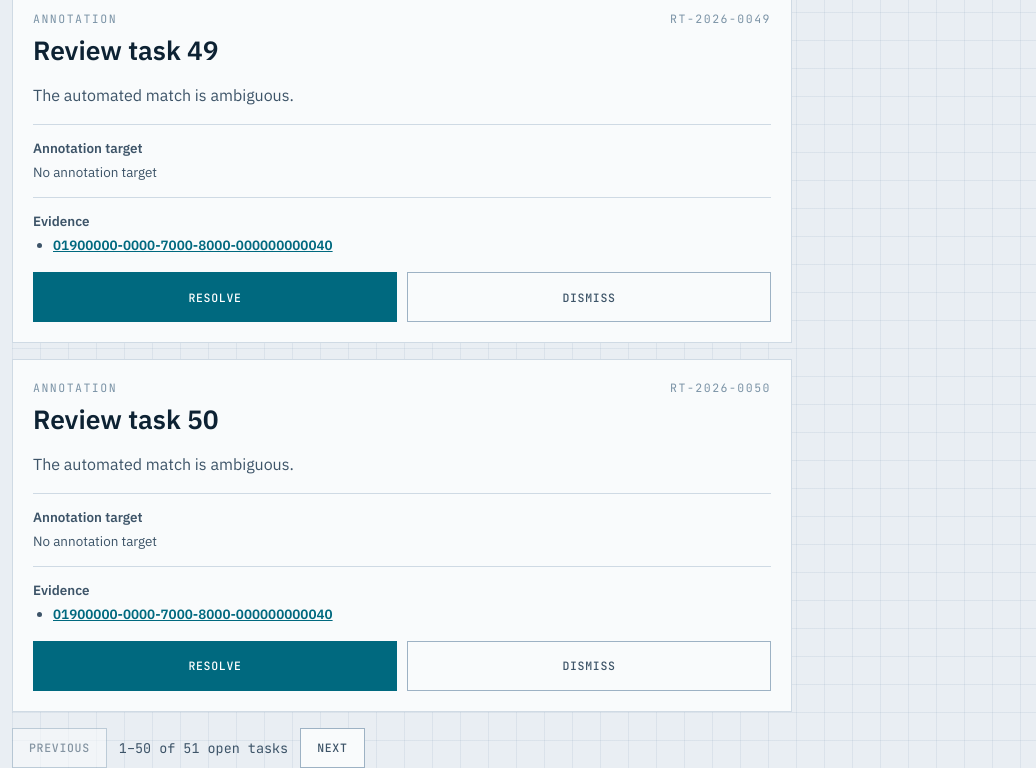
Test: ReviewQueuePage › pages through open tasks with Prev/Next controls
(page scrolled)
expect the text "1–50 of 51 open tasks" is shown: met, box left=119, top=739, right=288, bottom=757
Click the button "Next" at (332, 748), box left=300, top=728, right=364, bottom=767
(page scrolled)
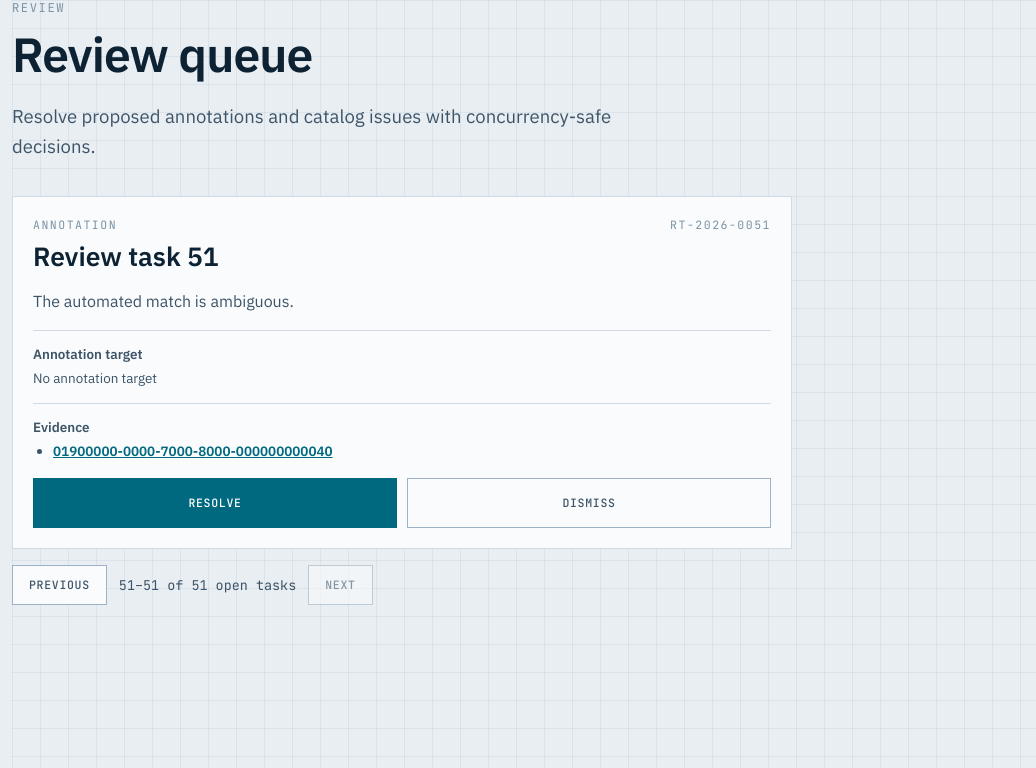
expect the heading "Review task 51" is shown: met, box left=33, top=239, right=219, bottom=273
expect the text "51–51 of 51 open tasks" is shown: met, box left=119, top=576, right=296, bottom=594
